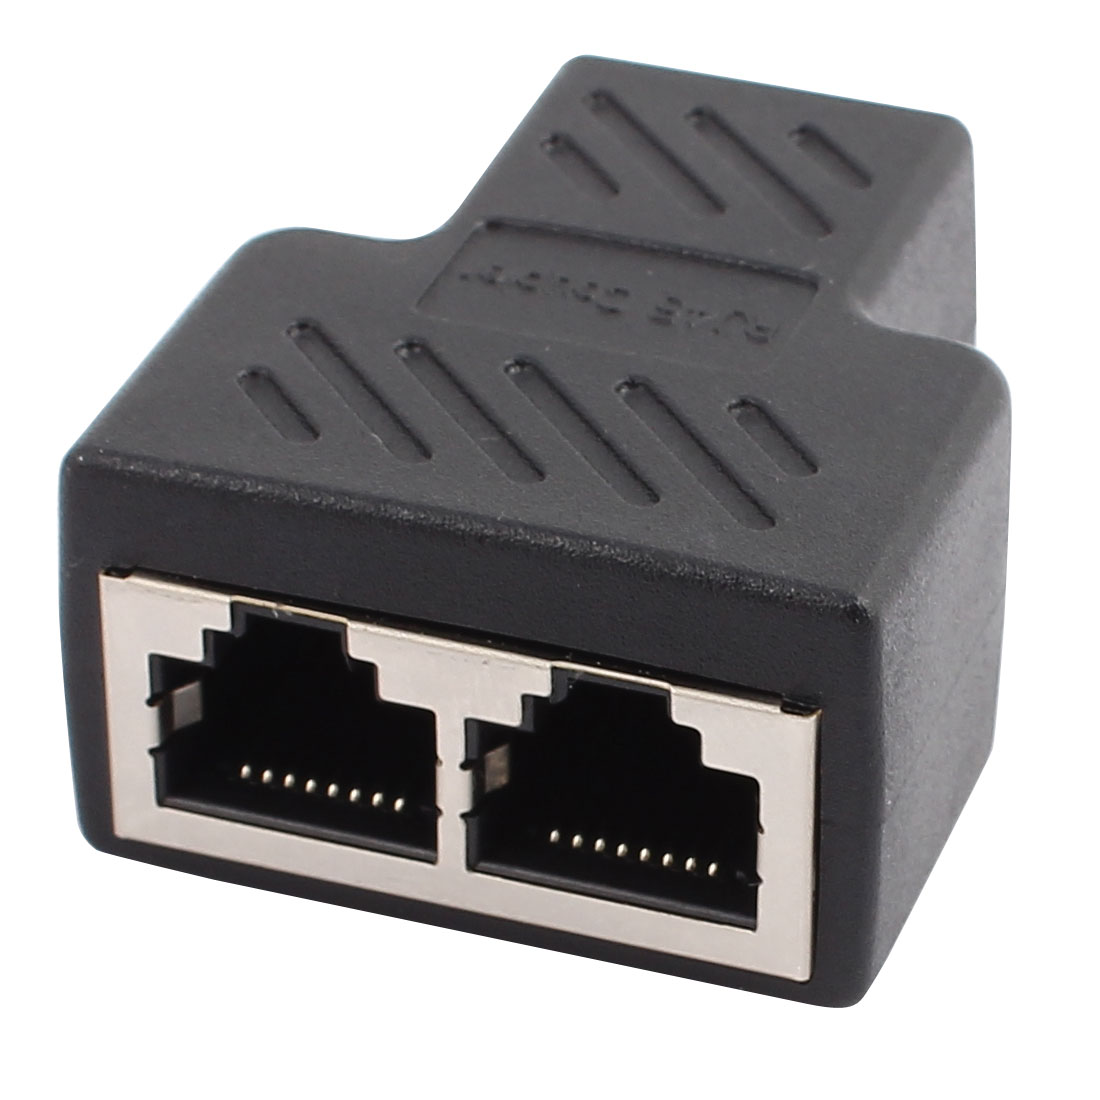lan: (459, 638, 779, 953), (122, 576, 448, 879)
